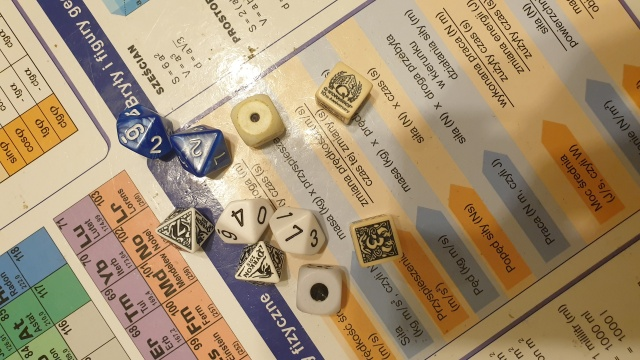d10-2: (168, 120, 235, 179)
d10-4: (211, 195, 272, 247)
d10-6: (111, 100, 175, 165)
d10-7: (268, 199, 328, 256)
d6-1: (229, 92, 286, 150), (294, 262, 345, 318)
d6p-3: (346, 212, 404, 268)
d6p-6: (311, 56, 371, 128)
d8p-1: (231, 240, 286, 292)
d8p-7: (155, 205, 212, 254)
